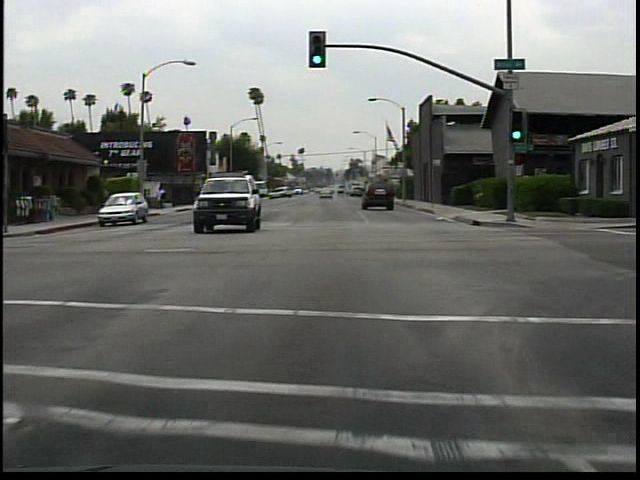person: (157, 182, 169, 211)
